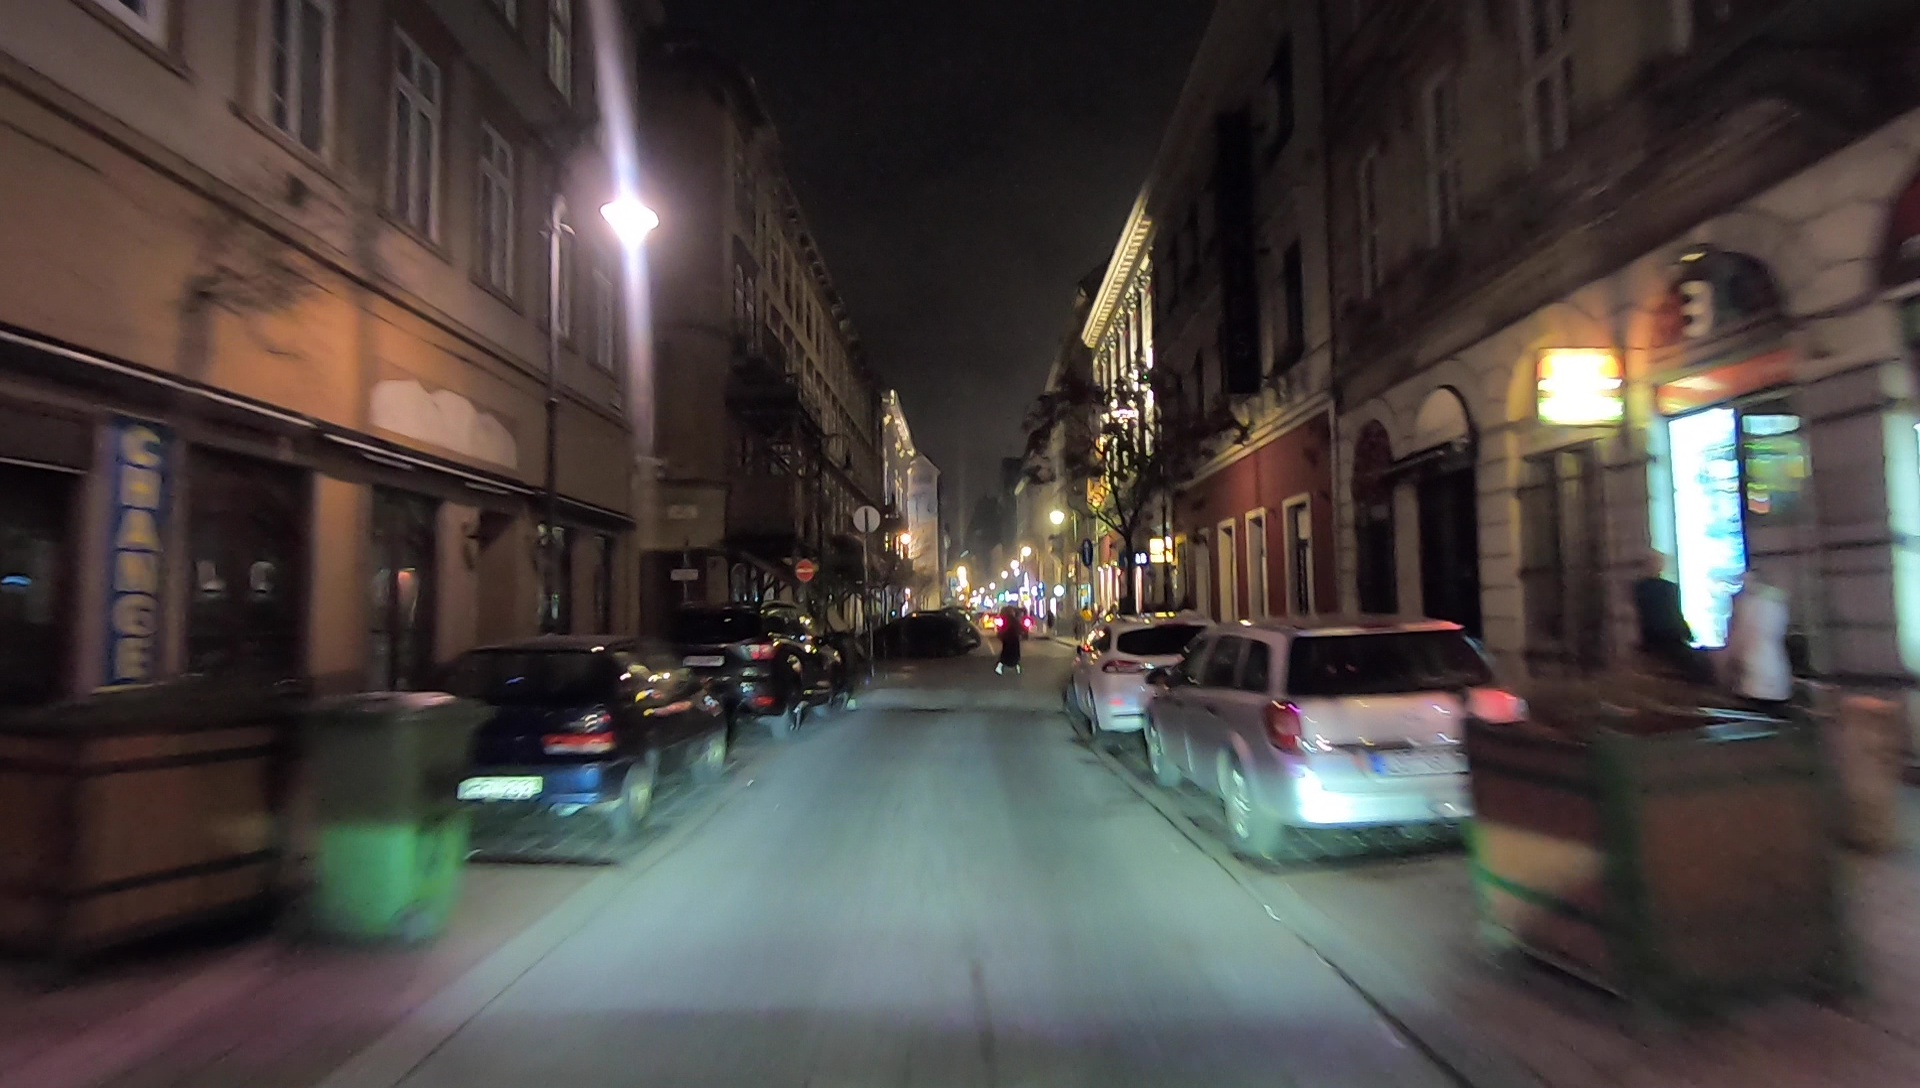person: (1638, 543, 1699, 724), (1736, 563, 1795, 743), (995, 608, 1030, 682)
